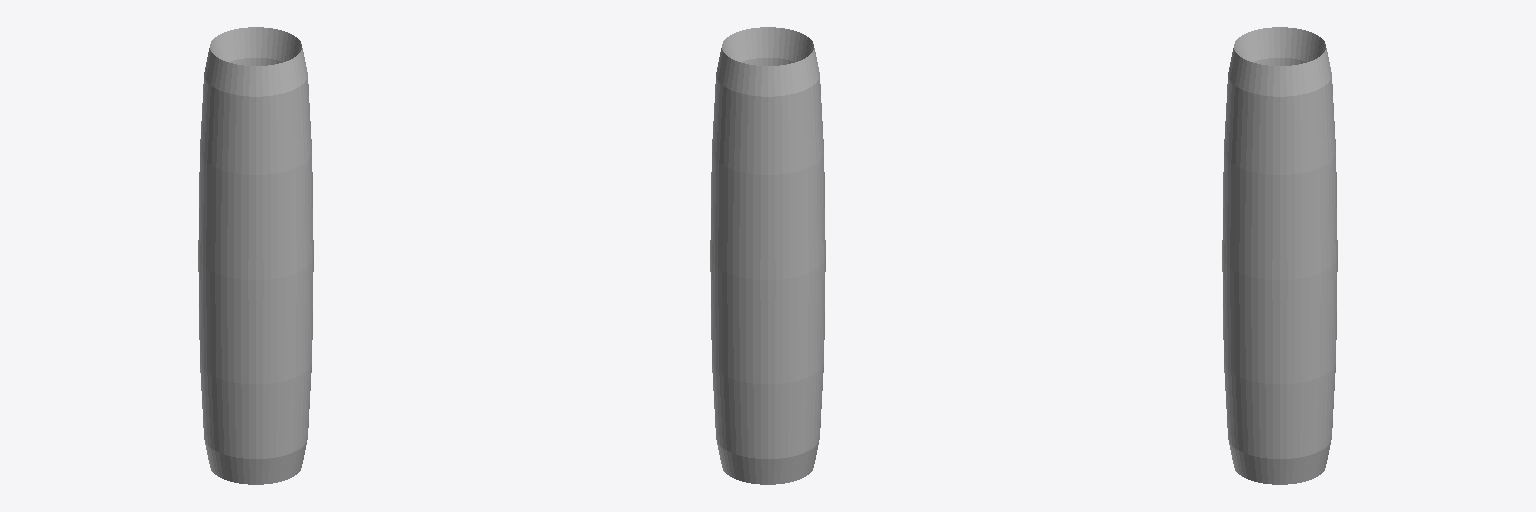
The model's file is Tunnel.obj.
The picture shows the model from 3 angles: view 1: azimuth 30°, elevation 25°; view 2: azimuth 150°, elevation 25°; view 3: azimuth 270°, elevation 25°; orthographic projection.
Parts seen in each view (by area): view 1: Torus; view 2: Torus; view 3: Torus.
Boxes of the visible parts, x1,y1,x2,y2 form: Torus: [198, 27, 313, 484]; Torus: [710, 27, 825, 484]; Torus: [1222, 27, 1337, 484].
Size of the model in its own units: 2.5 by 10 by 2.5.